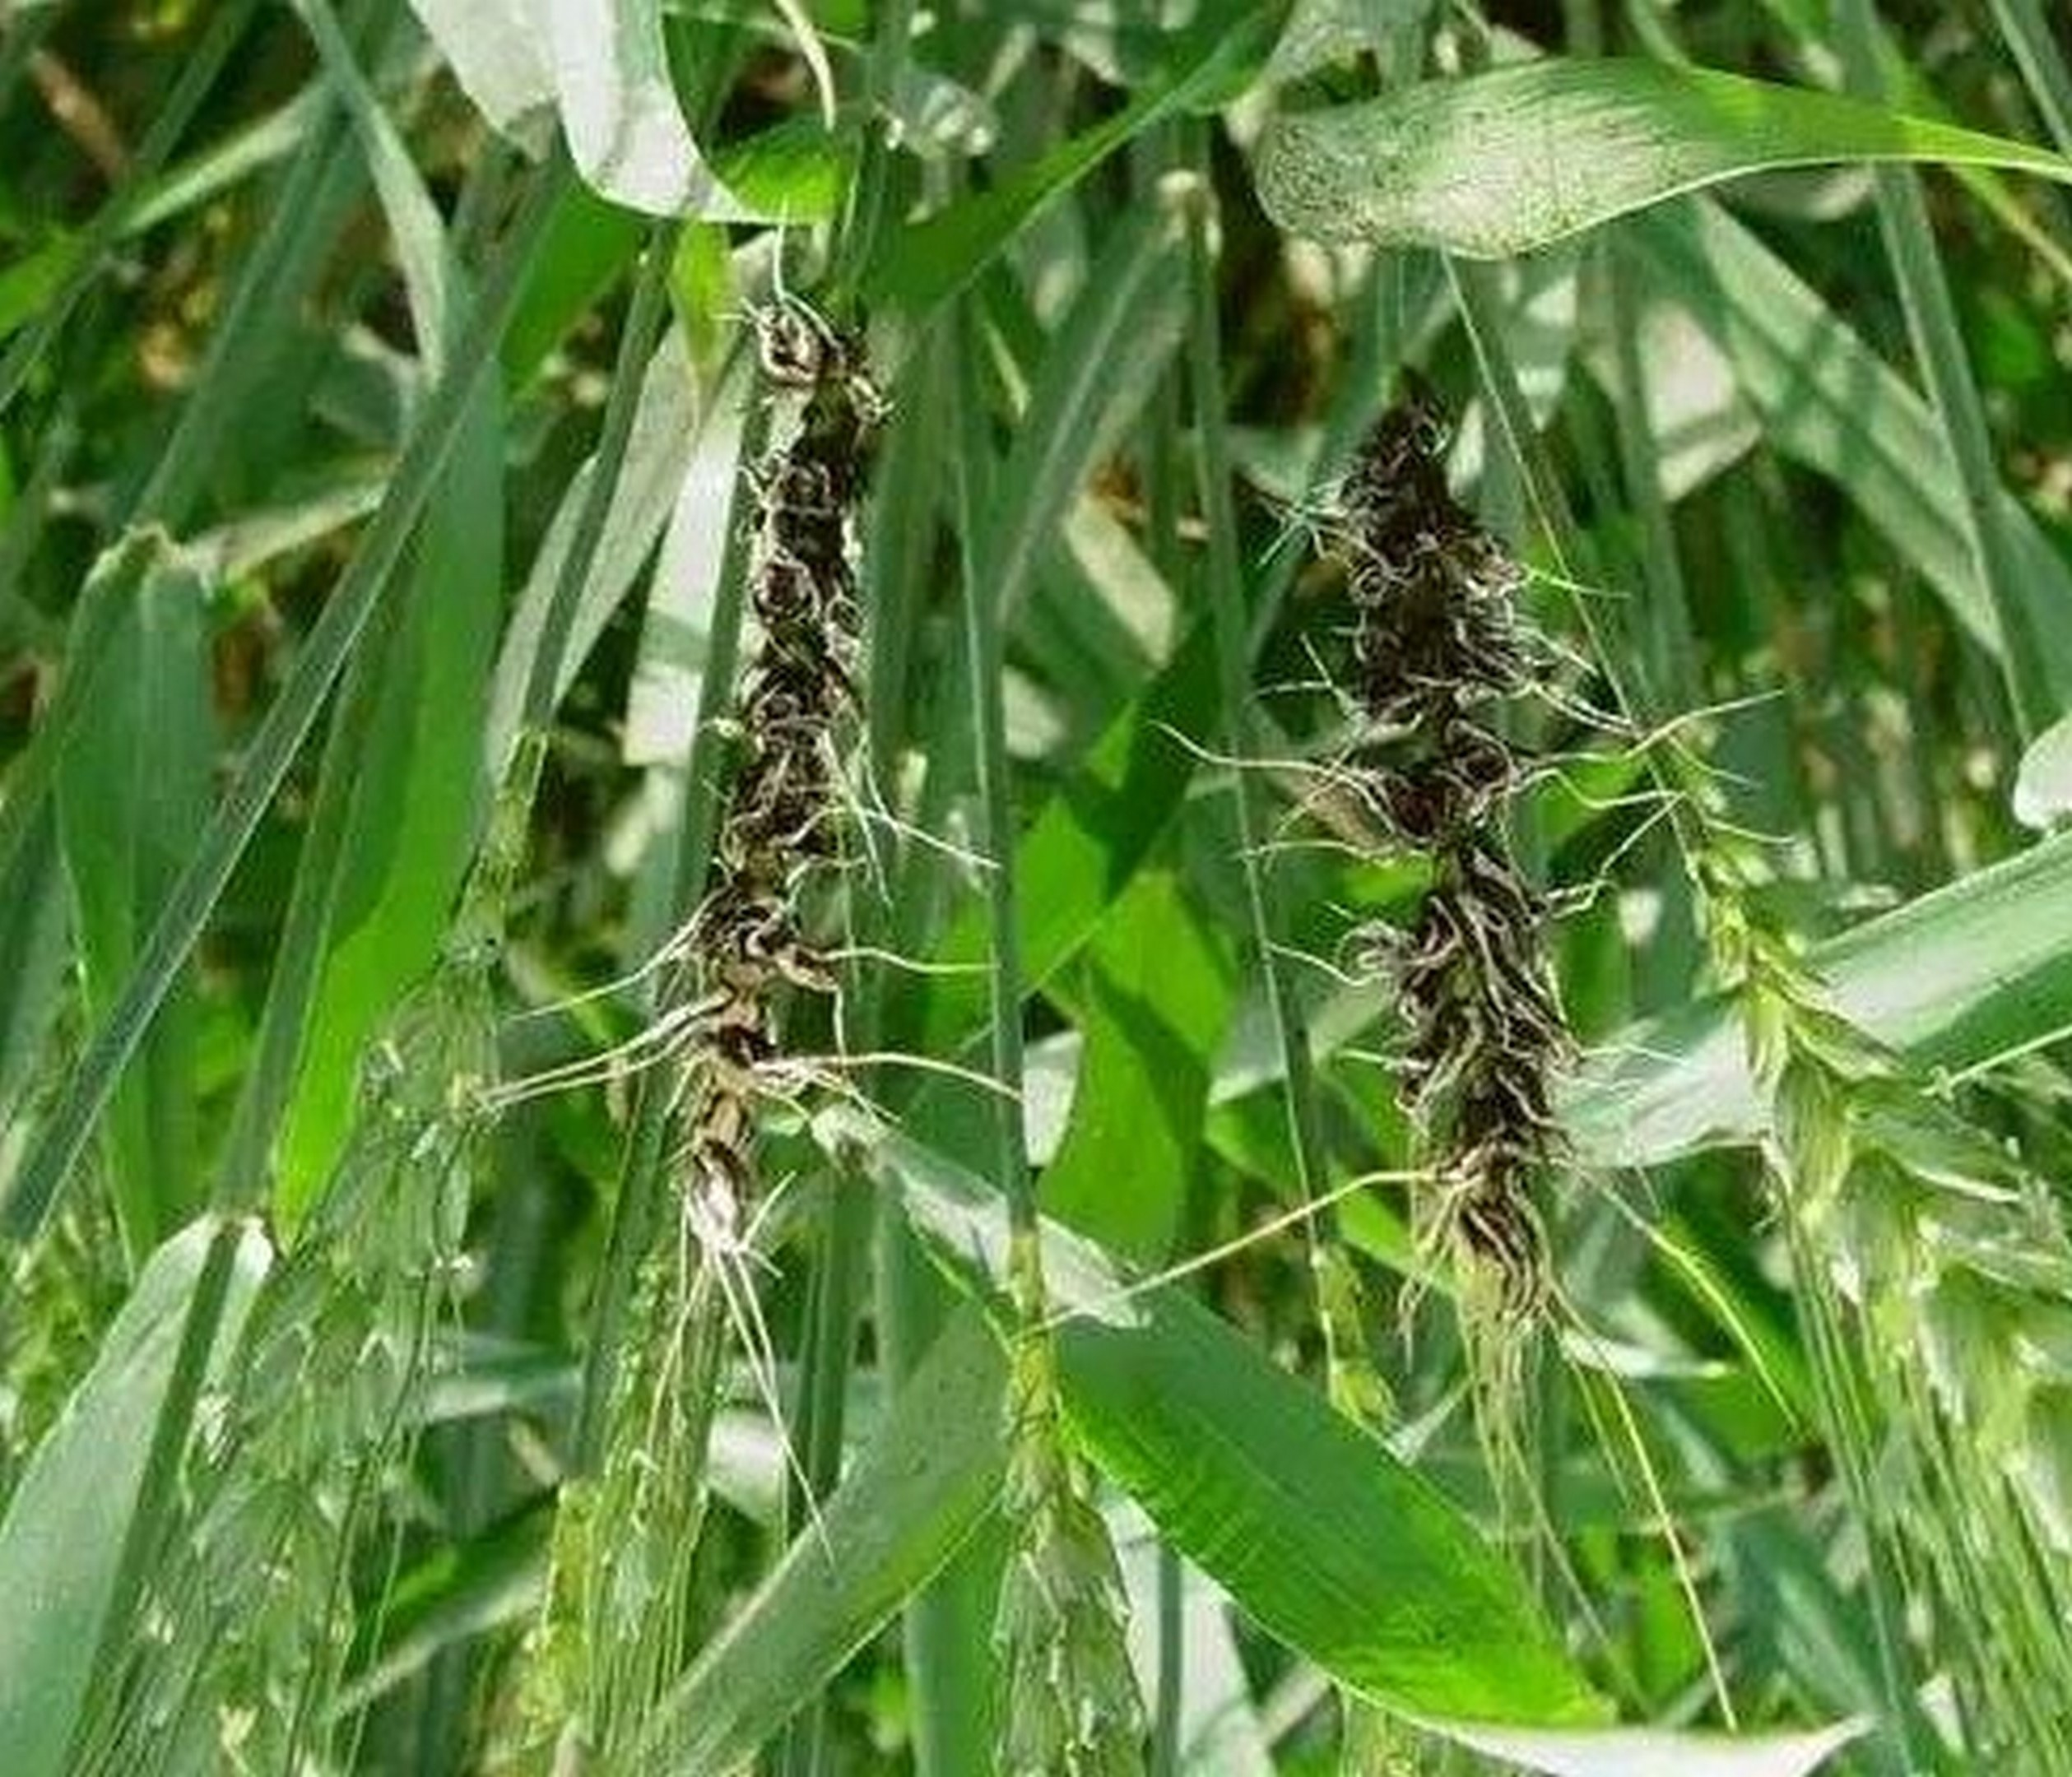Wheat Loose Smut: (1286, 386, 1607, 1323), (666, 424, 906, 1113)
